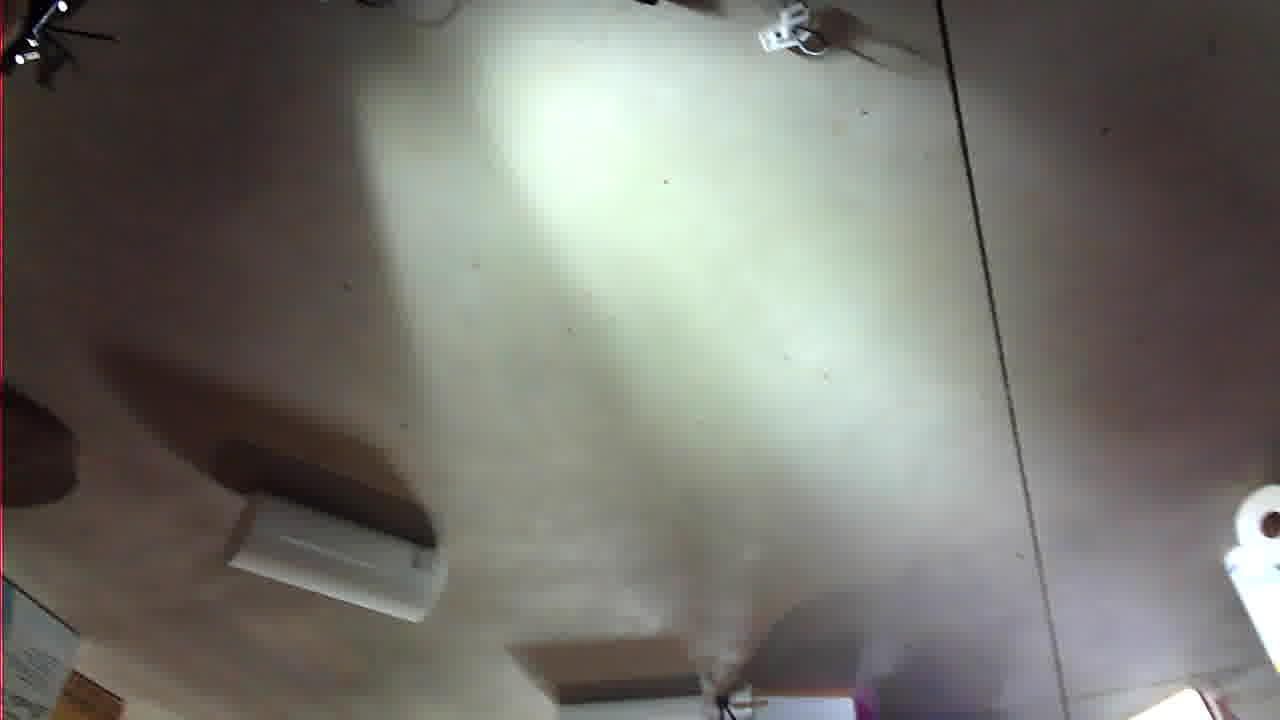coral: (832, 95, 1055, 230)
